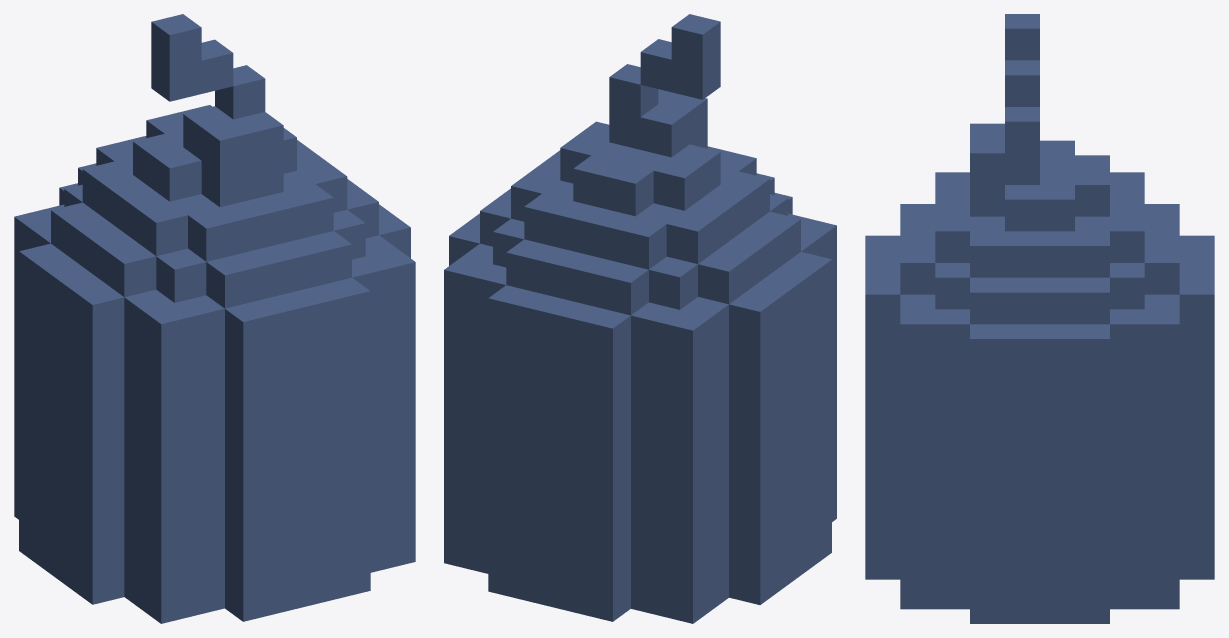
The model's file is TESTOWANIE_VOXELA-3.obj.
3 renders of one model, left to right at view 1: azimuth 30°, elevation 25°; view 2: azimuth 150°, elevation 25°; view 3: azimuth 270°, elevation 25°, orthographic. The views are drawn at different scales.
Size of the model in its own units: 1 by 1.6 by 1.
Materials: 1 (1 with a texture image).
